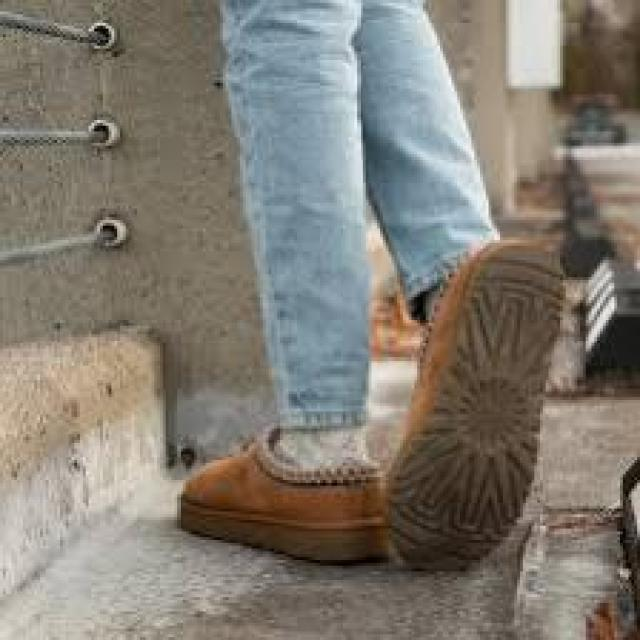shoe: (390, 245, 563, 572), (179, 430, 390, 563)
